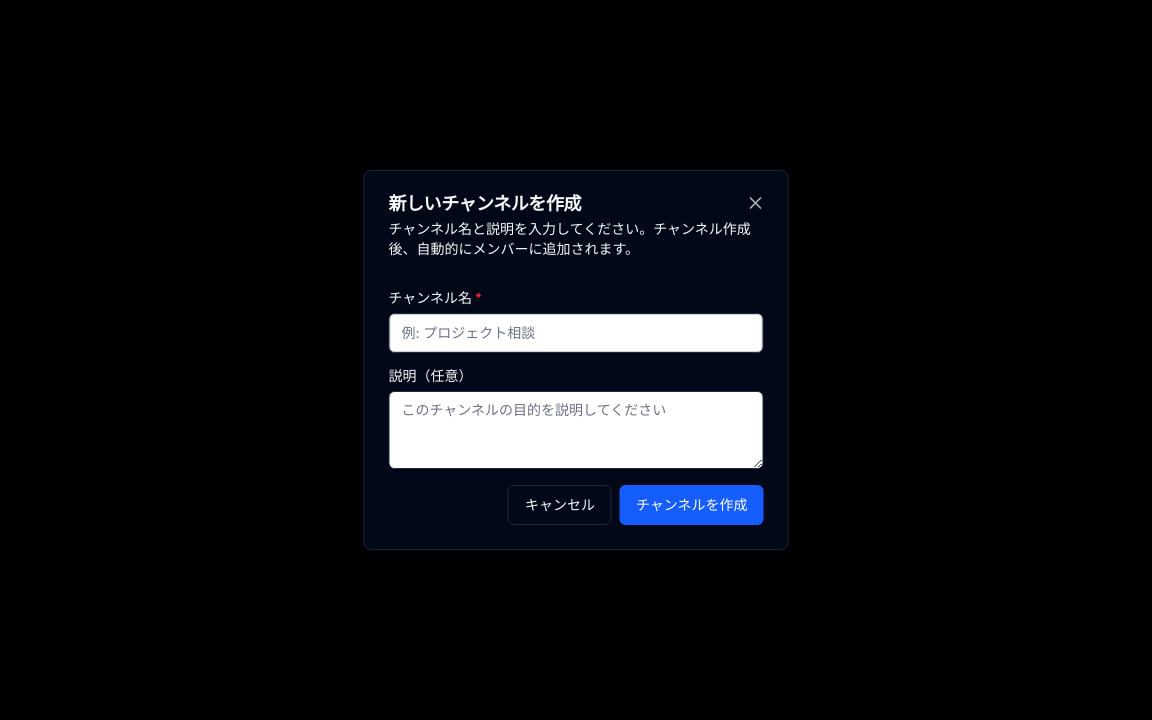
CreateChannelDialog - チャンネル作成ダイアログ › ローディング状態 › 送信中は入力フィールドが無効化される
The image size is (1152, 720).
Type "テスト" into the field labelled "チャンネル名 *". click: (576, 333)
box: [388,313,764,353]
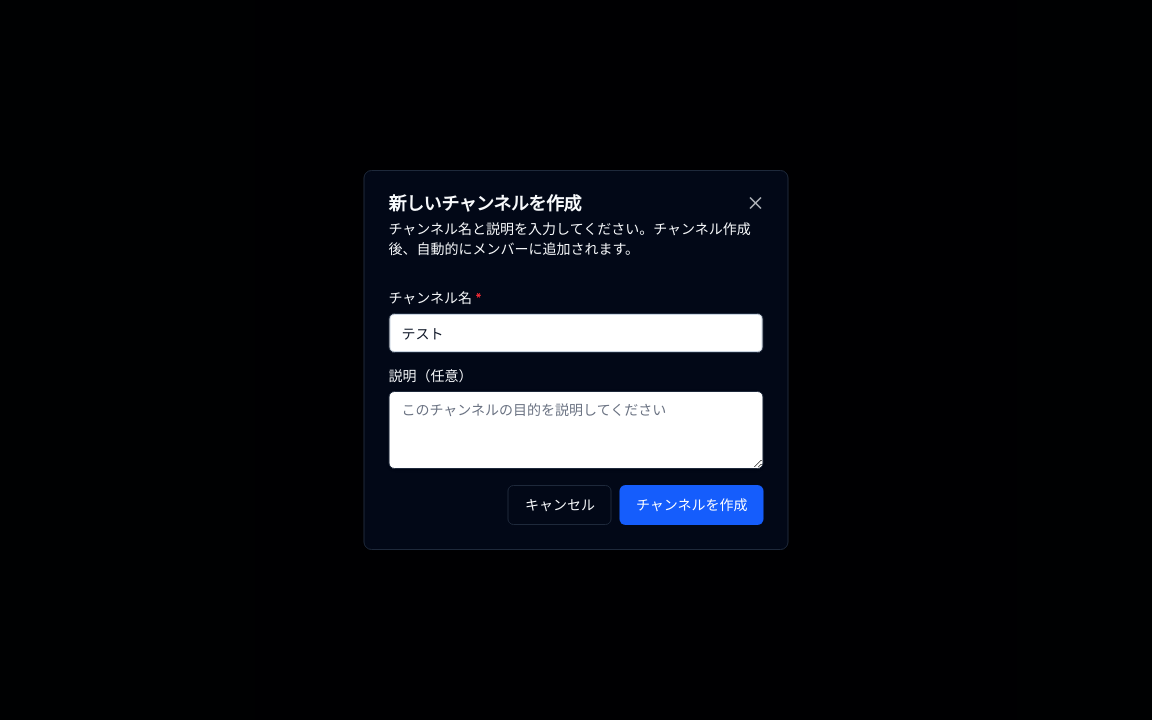
Click the button "チャンネルを作成". click: (692, 505)
box: [620,485,764,525]
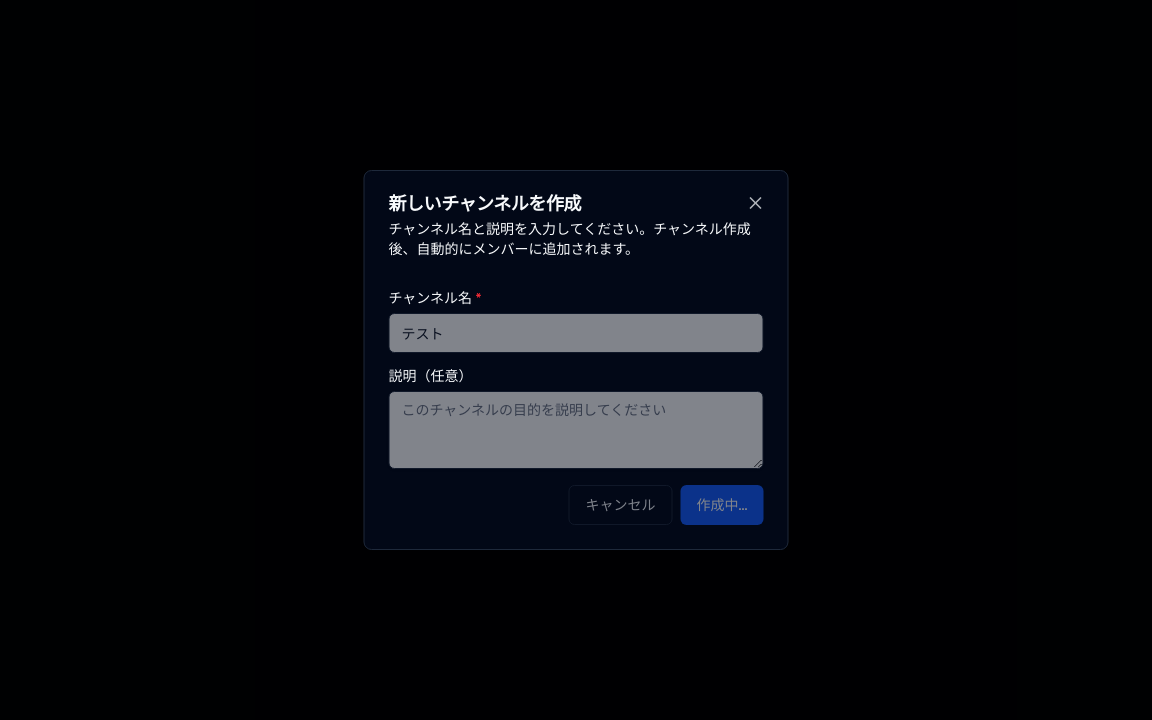
expect the field labelled "チャンネル名 *" is disabled: met, box [388,313,764,353]
